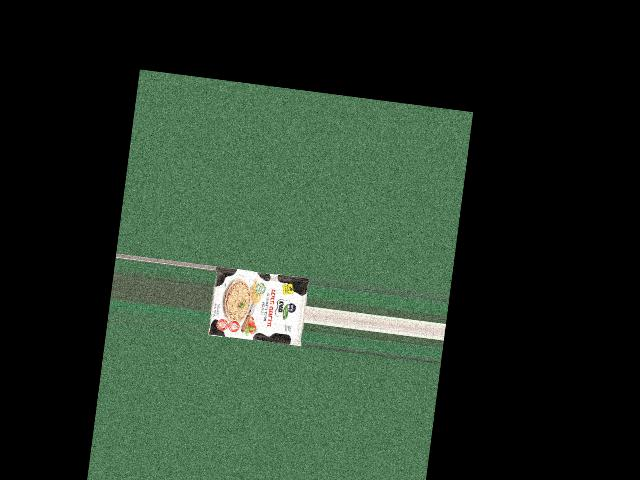cheese: (210, 265, 302, 357)
